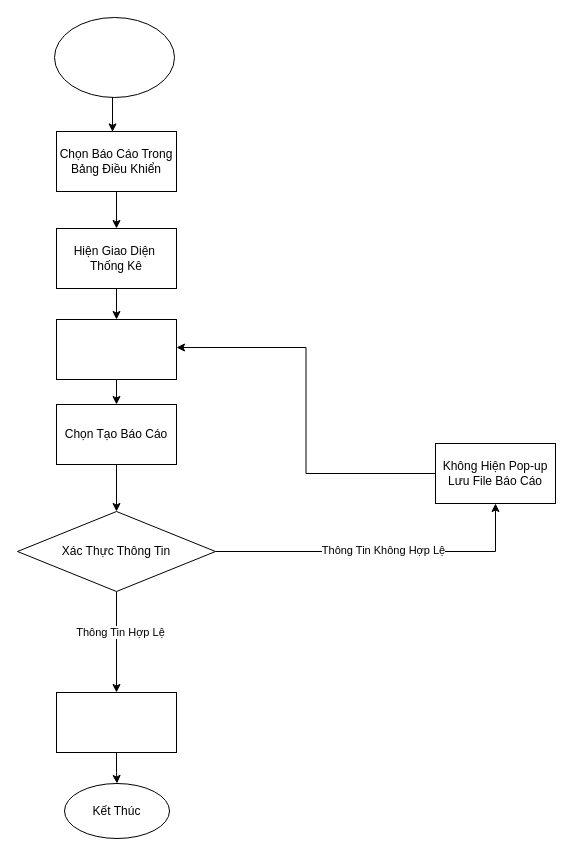
Image size: 573x856. Some labels were removed from this diagram. The centre of each missing label's shape, as x and y in pixels:
"Bắt đầu" goes at point 114,57.
"Chọn Thông Tin" goes at point 116,349.
"Hiện Pop-up Lưu File Báo Cáo" goes at point 116,722.
